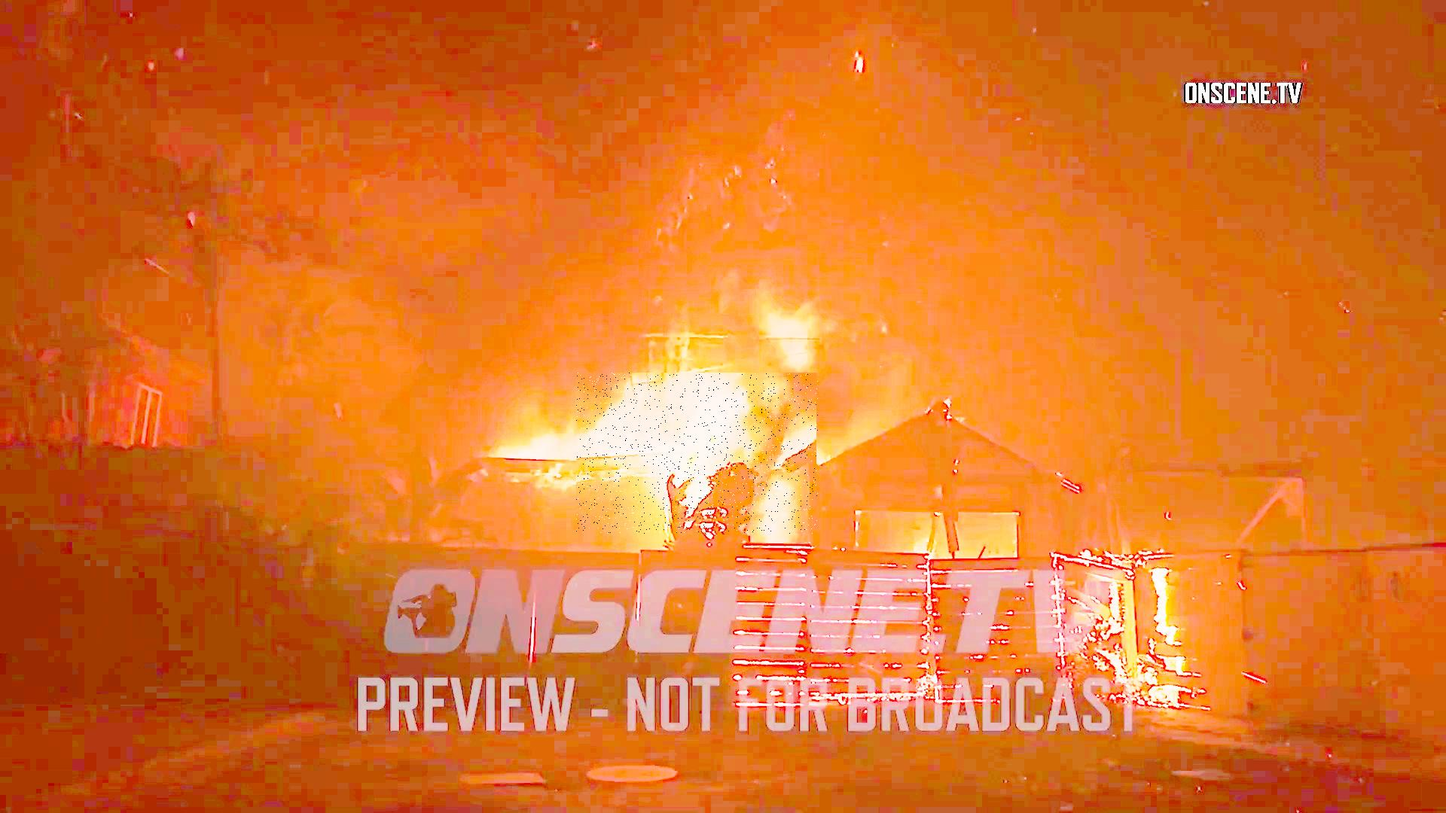fire: (577, 373, 818, 534)
